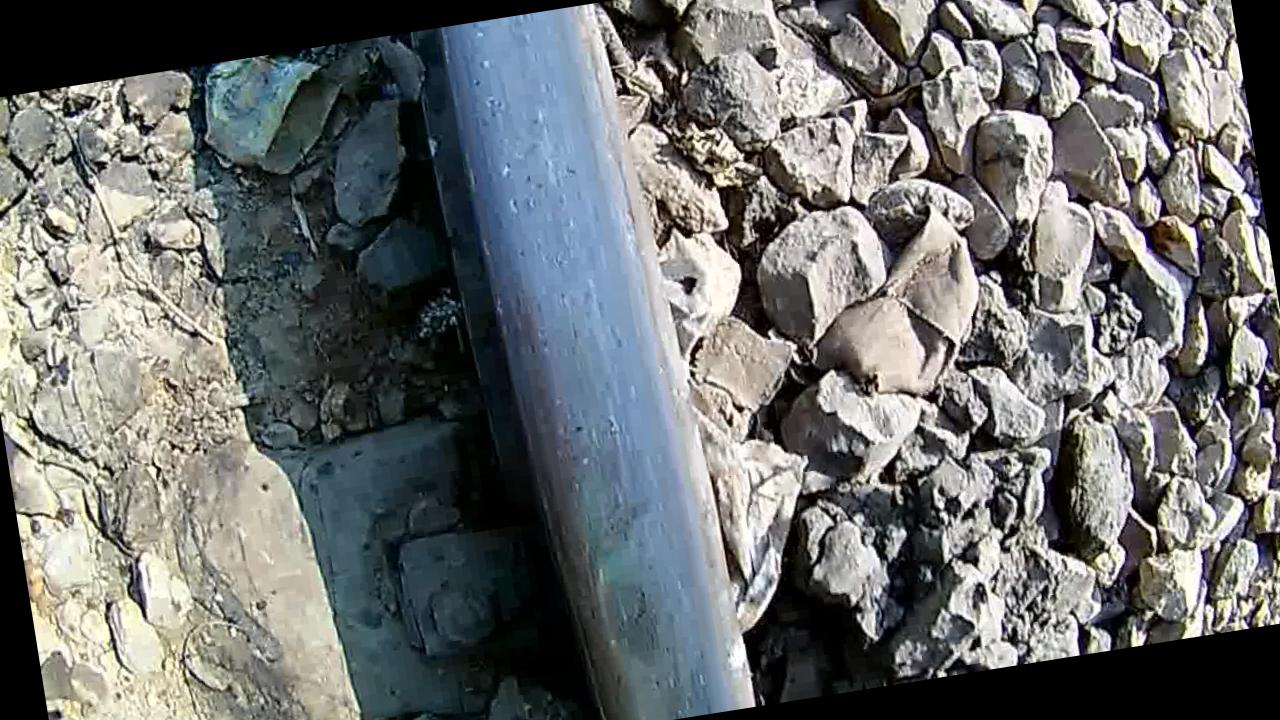bolt_missing: (536, 471, 736, 720)
